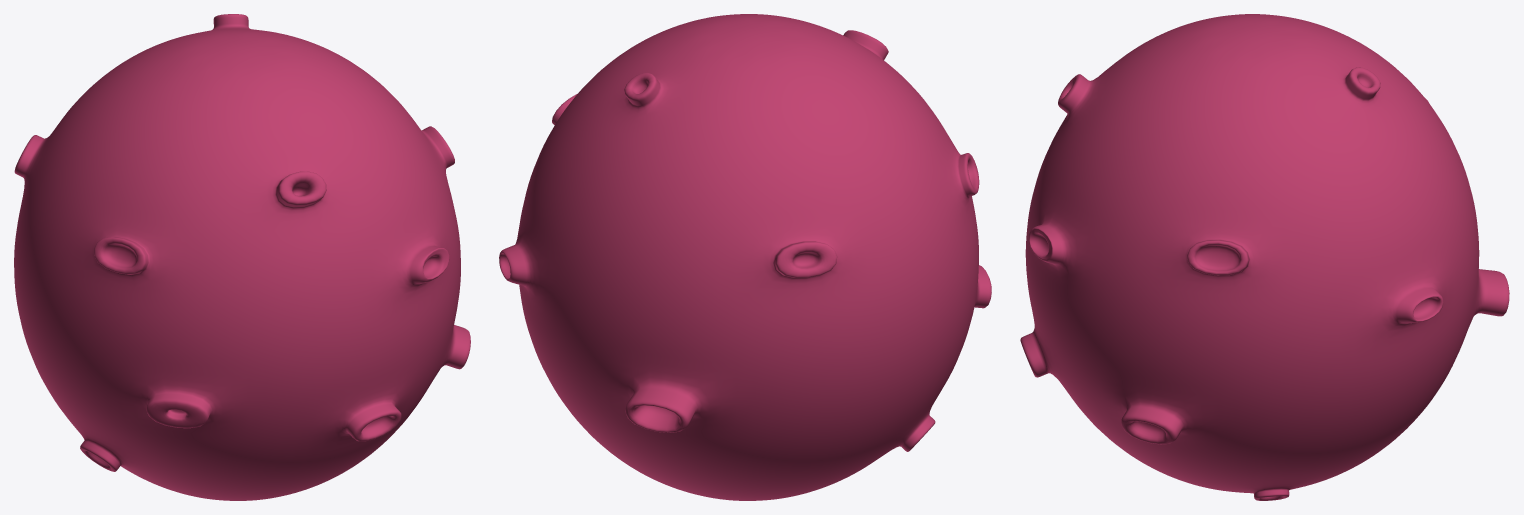
The model's file is planet1.fbx.
The picture shows the model from 3 angles, left to right: view 1: azimuth 30°, elevation 25°; view 2: azimuth 150°, elevation 25°; view 3: azimuth 270°, elevation 25°; orthographic projection. The views are drawn at different scales.
Visible parts, largest first — view 1: pasted__pSphere15; view 2: pasted__pSphere15; view 3: pasted__pSphere15.
Part boxes in pixels (x1,y1,x2,y2): pasted__pSphere15: (14, 14, 470, 500); pasted__pSphere15: (499, 14, 991, 500); pasted__pSphere15: (1020, 14, 1509, 500).
Size of the model in its own units: 1.93 by 2.05 by 2.07.
